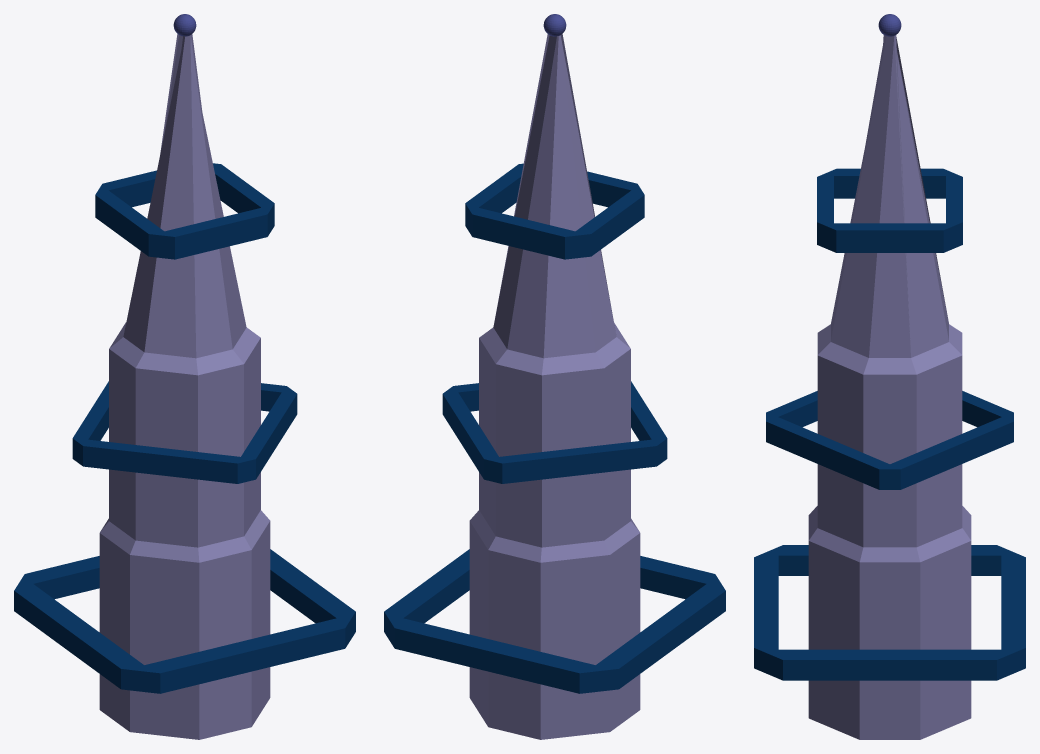
File: Building4.fbx
3 renders of one model, left to right at view 1: azimuth 30°, elevation 25°; view 2: azimuth 150°, elevation 25°; view 3: azimuth 270°, elevation 25°, orthographic.
Visible parts, largest first — view 1: Cube.004, Cube, Cube.002, Cube.003; view 2: Cube.004, Cube, Cube.002, Cube.003; view 3: Cube.004, Cube, Cube.002, Cube.003.
Part boxes in pixels (<box>): Cube.004: <box>99,34,270,739</box>; Cube: <box>14,549,355,693</box>; Cube.002: <box>72,381,297,483</box>; Cube.003: <box>95,163,274,259</box>; Cube.004: <box>469,34,640,739</box>; Cube: <box>384,549,725,693</box>; Cube.002: <box>442,381,667,483</box>; Cube.003: <box>465,163,644,259</box>; Cube.004: <box>808,35,971,739</box>; Cube: <box>754,545,1025,680</box>; Cube.002: <box>766,391,1013,489</box>; Cube.003: <box>817,168,962,252</box>.
Size of the model in its own units: 2391 by 6700 by 2391.
